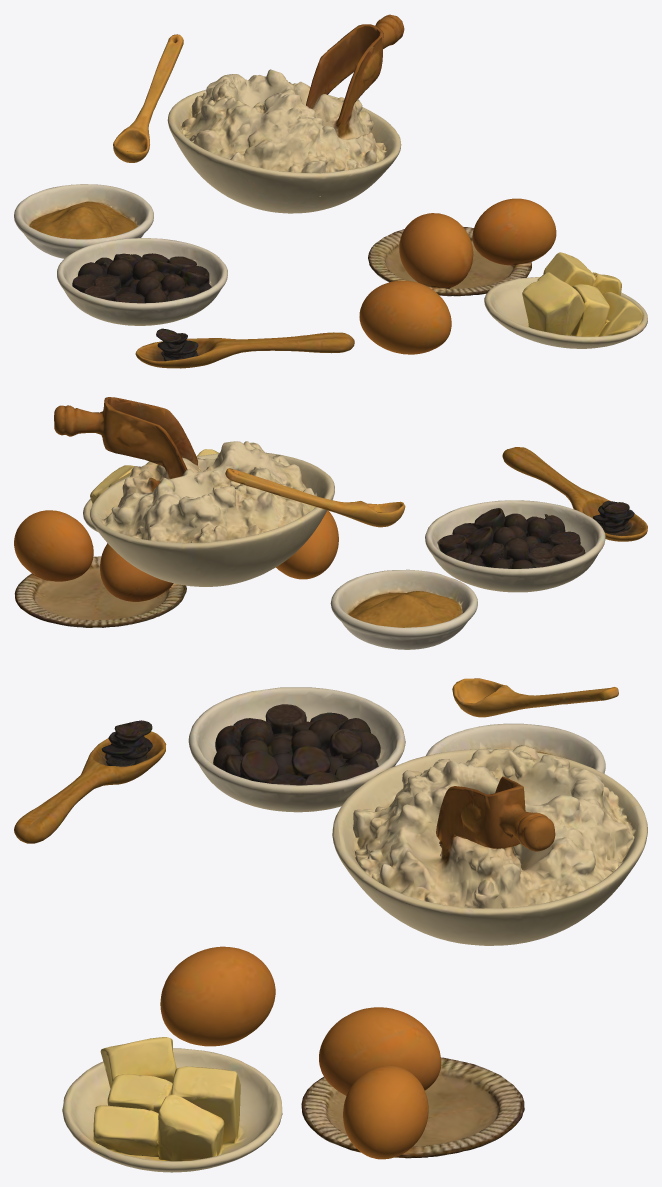
File: ingredientes.glb
3 views of the same model, one above another, from view 1: azimuth 30°, elevation 25°; view 2: azimuth 150°, elevation 25°; view 3: azimuth 270°, elevation 25° (orthographic). The views are drawn at different scales.
Parts seen in each view (by area): view 1: tripo_node_c2554c7d-1b32-4a2f-aa20-e64e1fa38746; view 2: tripo_node_c2554c7d-1b32-4a2f-aa20-e64e1fa38746; view 3: tripo_node_c2554c7d-1b32-4a2f-aa20-e64e1fa38746.
Part boxes in pixels (box(x1,y1,x2,y2)): tripo_node_c2554c7d-1b32-4a2f-aa20-e64e1fa38746: box(14, 14, 647, 368); tripo_node_c2554c7d-1b32-4a2f-aa20-e64e1fa38746: box(14, 397, 647, 649); tripo_node_c2554c7d-1b32-4a2f-aa20-e64e1fa38746: box(14, 678, 647, 1172).
Bounding box in the file's own units: 0.9798 × 0.4179 × 0.7765.
Materials: 1 (1 with a texture image).
